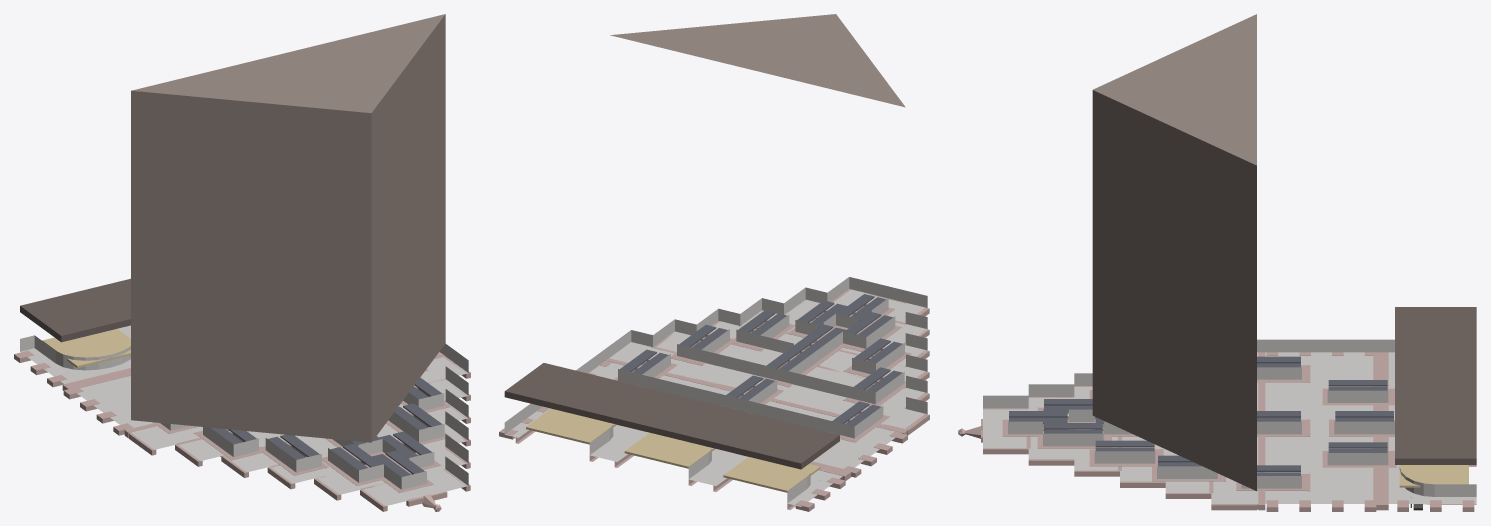
Rendered from kornhaus_measured.glb.
3 renders of one model, left to right at view 1: azimuth 30°, elevation 25°; view 2: azimuth 150°, elevation 25°; view 3: azimuth 270°, elevation 25°, orthographic. The views are drawn at different scales.
Parts seen in each view (by area): view 1: dach, fassade, sandstein, laube, fenster, warmlicht; view 2: fassade, laube, dach, fenster, sandstein, warmlicht; view 3: dach, fassade, laube, sandstein, fenster, warmlicht.
Boxes of the visible parts, x1=… form: dach: x1=131, y1=14, x2=445, y2=442; fassade: x1=20, y1=325, x2=468, y2=506; sandstein: x1=14, y1=350, x2=470, y2=511; laube: x1=20, y1=278, x2=130, y2=342; fenster: x1=211, y1=377, x2=441, y2=476; warmlicht: x1=42, y1=329, x2=130, y2=368; fassade: x1=504, y1=277, x2=927, y2=506; laube: x1=504, y1=363, x2=839, y2=469; dach: x1=610, y1=14, x2=905, y2=107; fenster: x1=620, y1=294, x2=902, y2=426; sandstein: x1=499, y1=289, x2=929, y2=511; warmlicht: x1=526, y1=408, x2=820, y2=492; dach: x1=1092, y1=14, x2=1256, y2=491; fassade: x1=983, y1=339, x2=1476, y2=503; laube: x1=1395, y1=307, x2=1476, y2=464; sandstein: x1=958, y1=352, x2=1476, y2=511; fenster: x1=1009, y1=356, x2=1393, y2=475; warmlicht: x1=1399, y1=465, x2=1468, y2=487.
Size of the model in its own units: 16.08 by 16.59 by 22.21.
